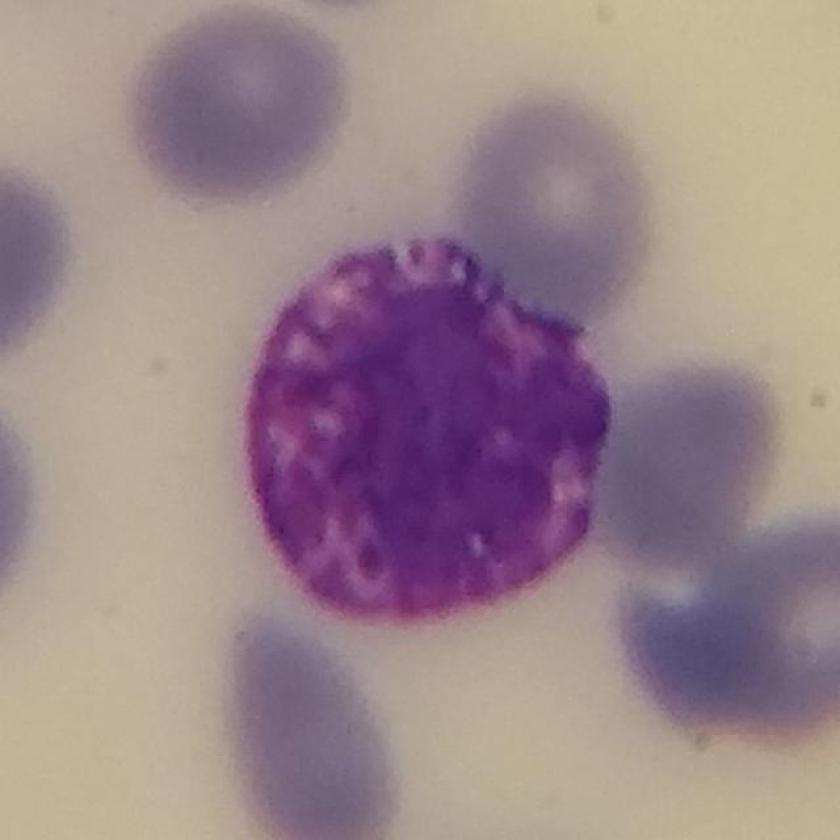basophil: (241, 228, 622, 636)
